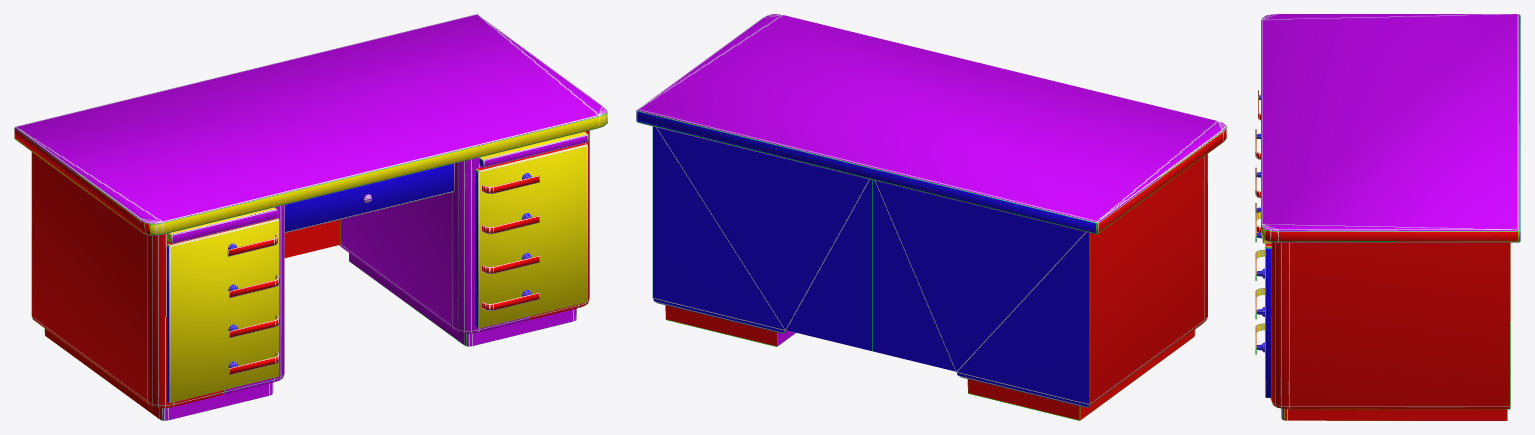
Rendered from Desk1.fbx.
The picture shows the model from 3 angles, left to right: view 1: azimuth 30°, elevation 25°; view 2: azimuth 150°, elevation 25°; view 3: azimuth 270°, elevation 25°; orthographic projection. The views are drawn at different scales.
Parts seen in each view (by area): view 1: SM_desk_01a; view 2: SM_desk_01a; view 3: SM_desk_01a.
Part boxes in pixels (<box>): SM_desk_01a: <box>14,14,607,420</box>; SM_desk_01a: <box>636,14,1226,420</box>; SM_desk_01a: <box>1255,14,1520,420</box>.
Size of the model in its own units: 349 by 151 by 180.
1 material, 1 textured.
